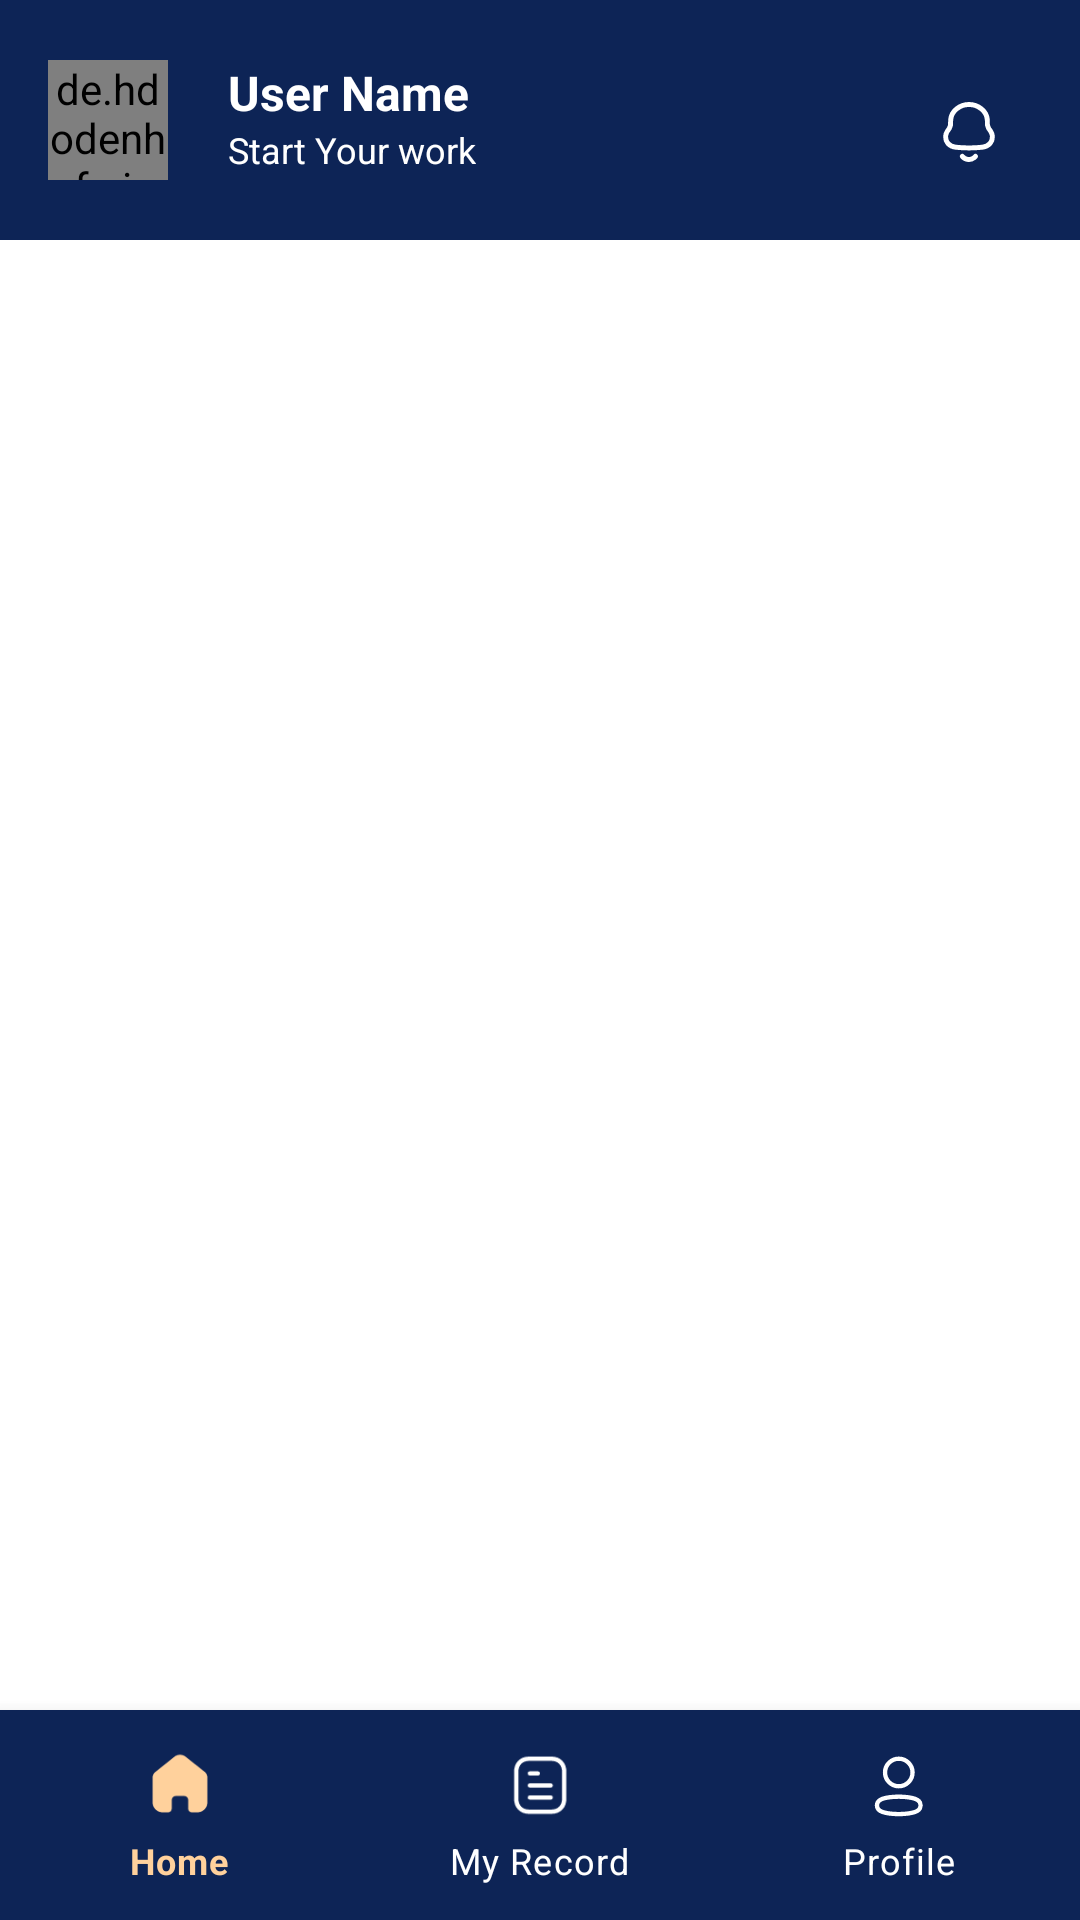

Screen size 1080 x 1920. Icon name, then its box in pixels as bbox(x1, y1, x2, y2):
notification: bbox(943, 102, 995, 162)
